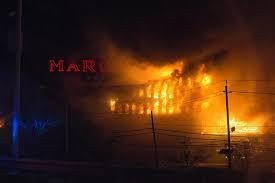fire: (133, 61, 266, 133)
